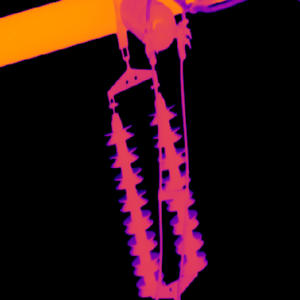insulator: (152, 90, 206, 274), (107, 111, 160, 277)
